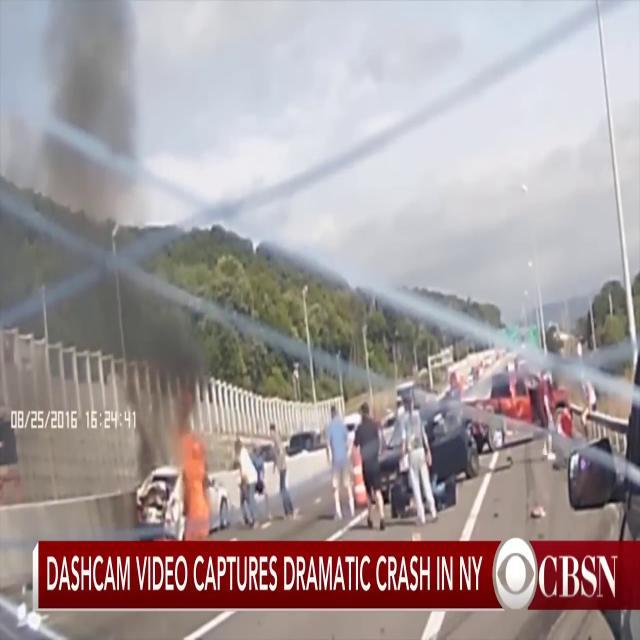Fire: (175, 427, 218, 532)
Smoke: (46, 0, 206, 450)
